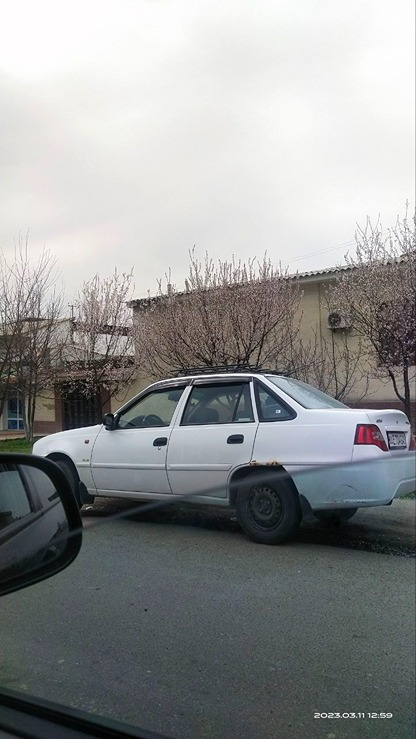car: (26, 383, 411, 516)
tree: (129, 237, 314, 370), (340, 215, 416, 364), (56, 271, 136, 366)
